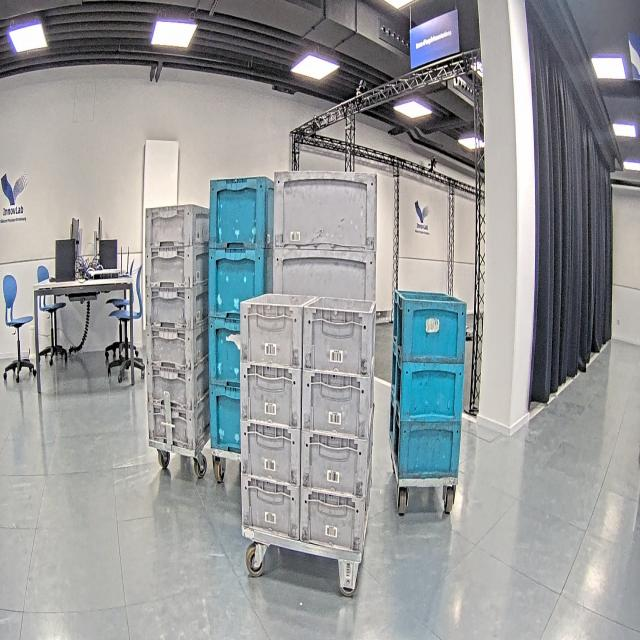Box3G: (147, 395, 209, 445), (146, 362, 210, 407), (144, 203, 208, 247), (143, 246, 208, 289), (144, 328, 207, 370), (146, 292, 208, 326)
Box4G: (273, 172, 380, 254), (268, 244, 378, 311)
Box8G: (302, 469, 375, 557), (303, 298, 380, 381), (301, 368, 378, 439), (303, 430, 378, 498), (238, 290, 305, 366), (238, 362, 304, 431), (240, 416, 303, 487), (239, 473, 303, 542)
BoxB4: (203, 174, 274, 250), (203, 252, 268, 321), (207, 319, 242, 387), (204, 390, 241, 454)
BoxB8: (397, 292, 471, 370), (396, 358, 464, 425), (392, 417, 463, 480)
